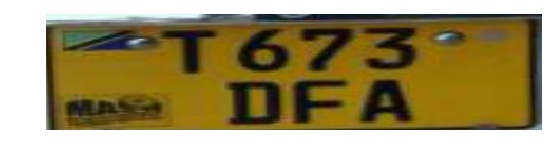T: (159, 26, 221, 80)
